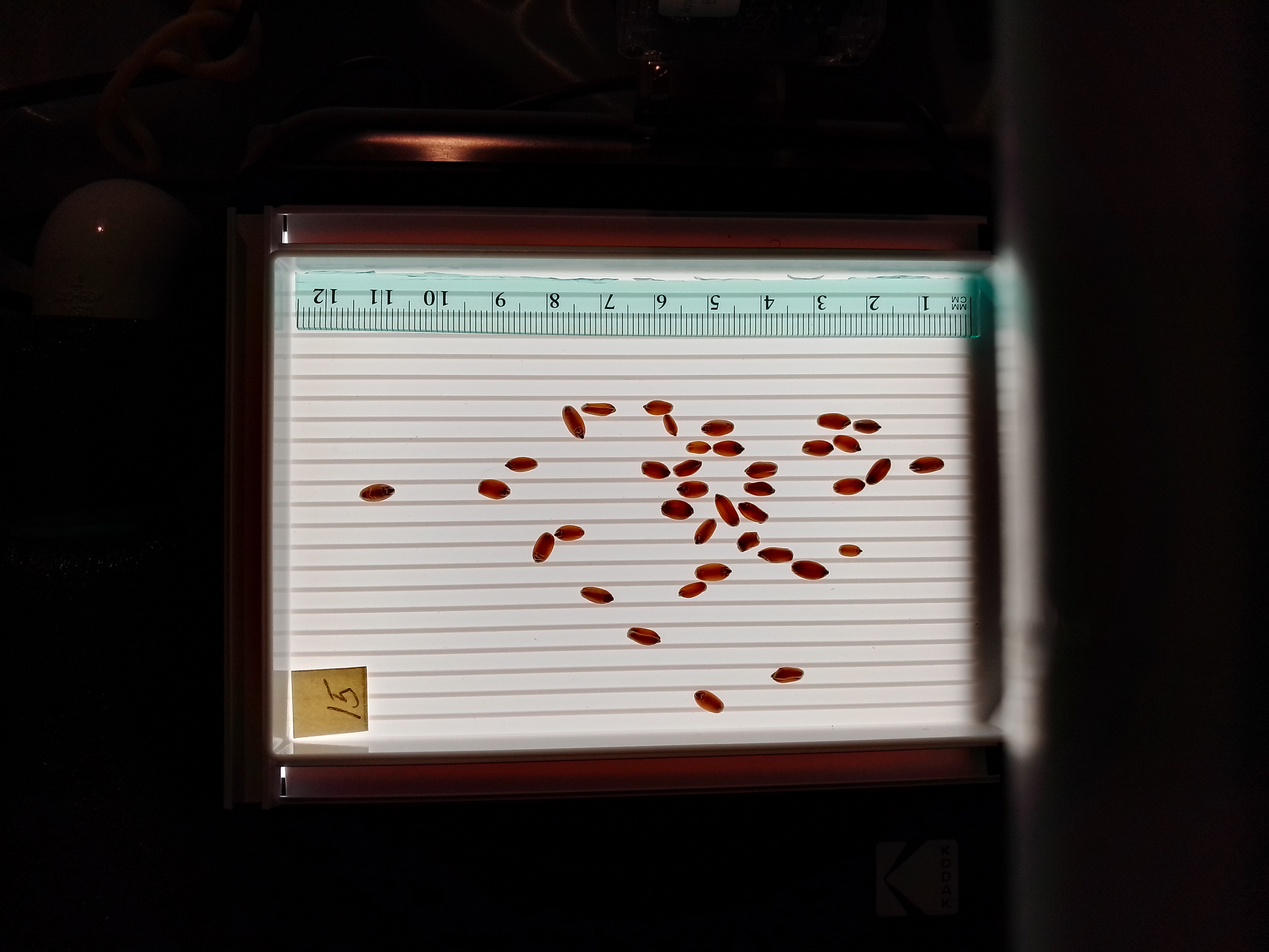seed mask: (563, 406, 585, 439), (715, 495, 739, 525), (532, 533, 555, 563), (793, 561, 828, 580), (694, 691, 724, 713), (695, 564, 731, 582), (478, 479, 510, 499), (662, 500, 693, 520), (360, 484, 394, 502), (867, 459, 891, 484), (628, 627, 660, 645), (759, 547, 792, 564), (772, 666, 803, 684), (818, 413, 850, 430), (911, 457, 943, 474), (739, 503, 767, 522), (582, 587, 613, 604), (746, 462, 777, 479), (678, 481, 708, 498), (703, 419, 733, 436), (642, 461, 670, 479), (714, 440, 743, 457), (695, 520, 715, 544), (834, 435, 860, 453), (834, 479, 863, 495), (803, 440, 832, 456), (679, 581, 706, 598), (674, 460, 701, 477), (555, 526, 584, 541), (645, 400, 672, 416), (737, 532, 759, 551), (507, 458, 536, 472), (853, 419, 880, 434), (583, 403, 614, 416), (745, 483, 773, 496), (687, 441, 710, 454), (664, 416, 678, 435), (840, 545, 861, 557)
